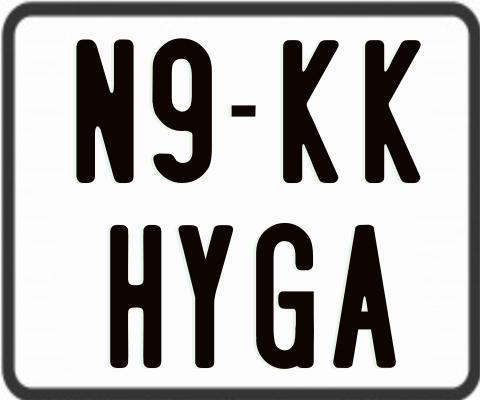9: (149, 36, 209, 183)
A: (333, 225, 399, 373)
G: (253, 220, 315, 367)
H: (110, 225, 163, 369)
K: (281, 39, 341, 186), (362, 40, 422, 184)
N: (75, 36, 133, 183)
Y: (175, 225, 233, 370)
